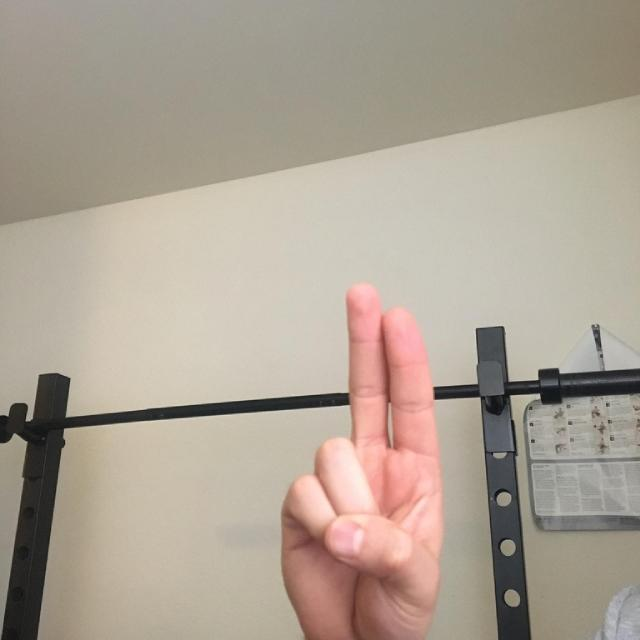U: (239, 265, 482, 640)
